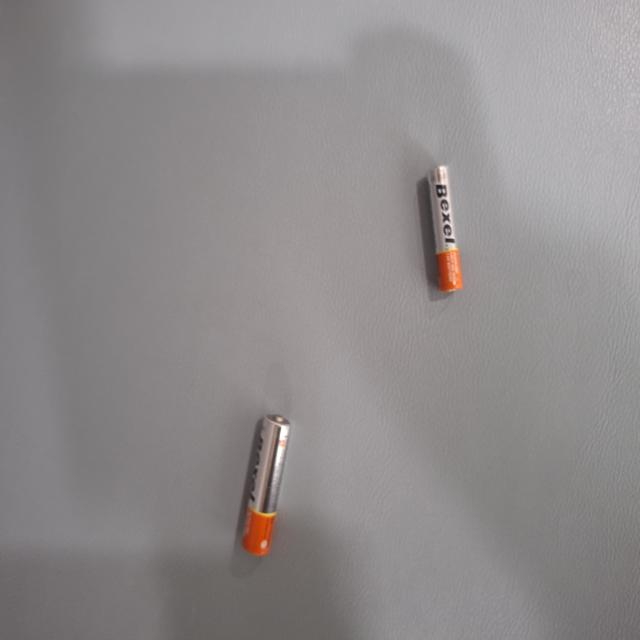AAA: (310, 464, 417, 532), (122, 235, 222, 287)
